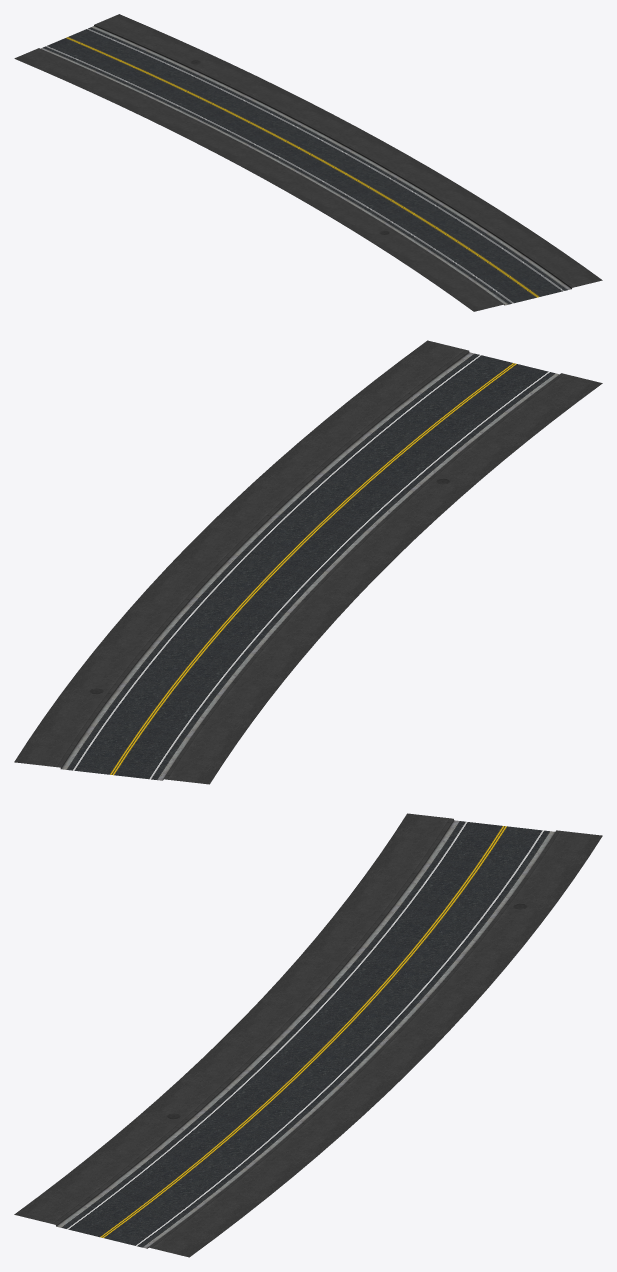
File: city_road_US_cont_marking_15left.fbx
The picture shows the model from 3 angles, top to bottom: view 1: azimuth 30°, elevation 25°; view 2: azimuth 150°, elevation 25°; view 3: azimuth 330°, elevation 25°; orthographic projection. The views are drawn at different scales.
Parts seen in each view (by area): view 1: obj0; view 2: obj0; view 3: obj0.
Part boxes in pixels (x1,y1,x2,y2): obj0: [14, 14, 602, 311]; obj0: [14, 340, 602, 784]; obj0: [14, 813, 602, 1257].
Bounding box in the file's own units: 48.55 × 0.254 × 154.
